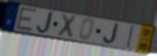0: (77, 18, 96, 42)
E: (14, 6, 38, 33)
I: (125, 25, 136, 50)
J: (35, 10, 55, 34), (102, 23, 120, 45)
X: (56, 13, 79, 41)
